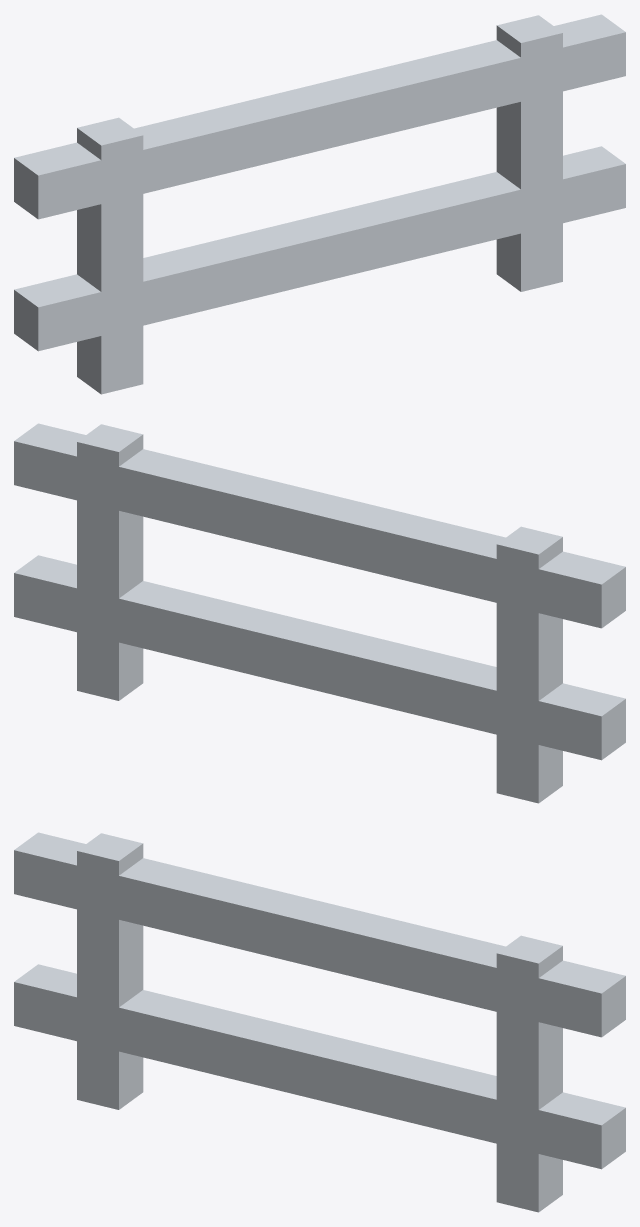
Rendered from att_bullbar.glb.
The picture shows the model from 3 angles, top to bottom: view 1: azimuth 30°, elevation 25°; view 2: azimuth 150°, elevation 25°; view 3: azimuth 330°, elevation 25°; orthographic projection.
Visible parts, largest first — view 1: att_bullbar; view 2: att_bullbar; view 3: att_bullbar.
Boxes of the visible parts, bbox=[...] form: att_bullbar: bbox=[14, 14, 625, 394]; att_bullbar: bbox=[14, 423, 625, 803]; att_bullbar: bbox=[14, 832, 625, 1212].
Size of the model in its own units: 0.84 by 0.34 by 0.06.
1 material, 1 textured.
